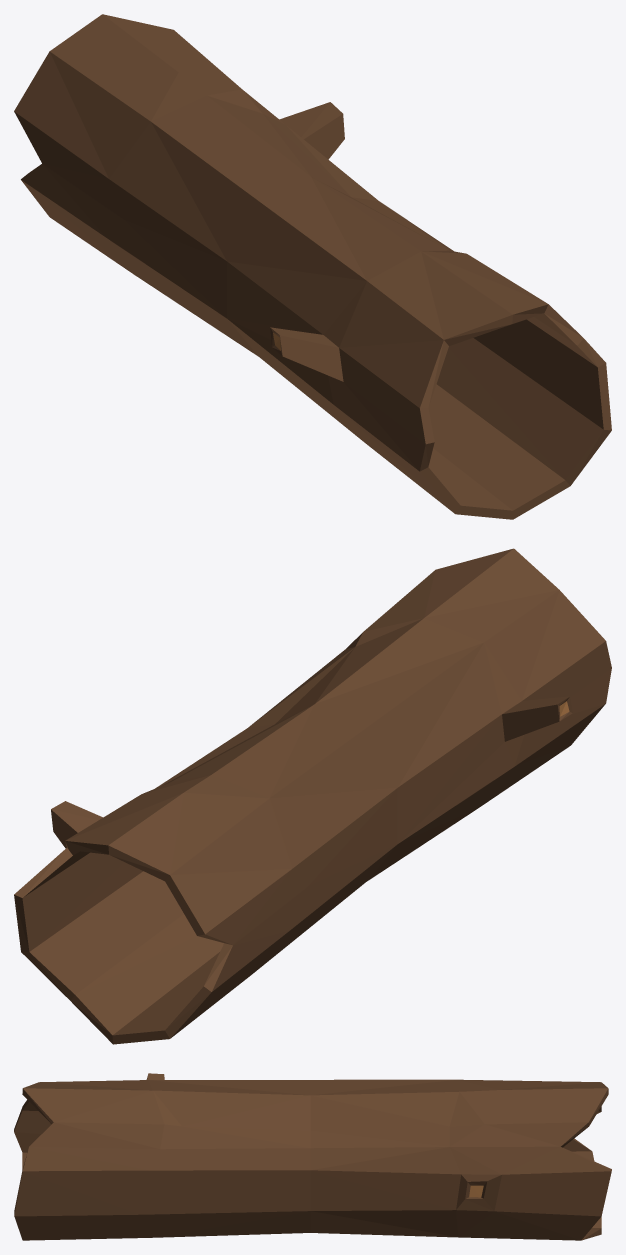
File: stump-06.glb
3 views of the same model, one above another, from view 1: azimuth 30°, elevation 25°; view 2: azimuth 150°, elevation 25°; view 3: azimuth 270°, elevation 25° (orthographic). The views are drawn at different scales.
Parts seen in each view (by area): view 1: Stump2; view 2: Stump2; view 3: Stump2.
Boxes of the visible parts, <box> form: Stump2: <box>14,14,611,519</box>; Stump2: <box>14,548,611,1044</box>; Stump2: <box>14,1073,611,1240</box>.
Bounding box in the file's own units: 2.16 × 1.47 × 5.44.
